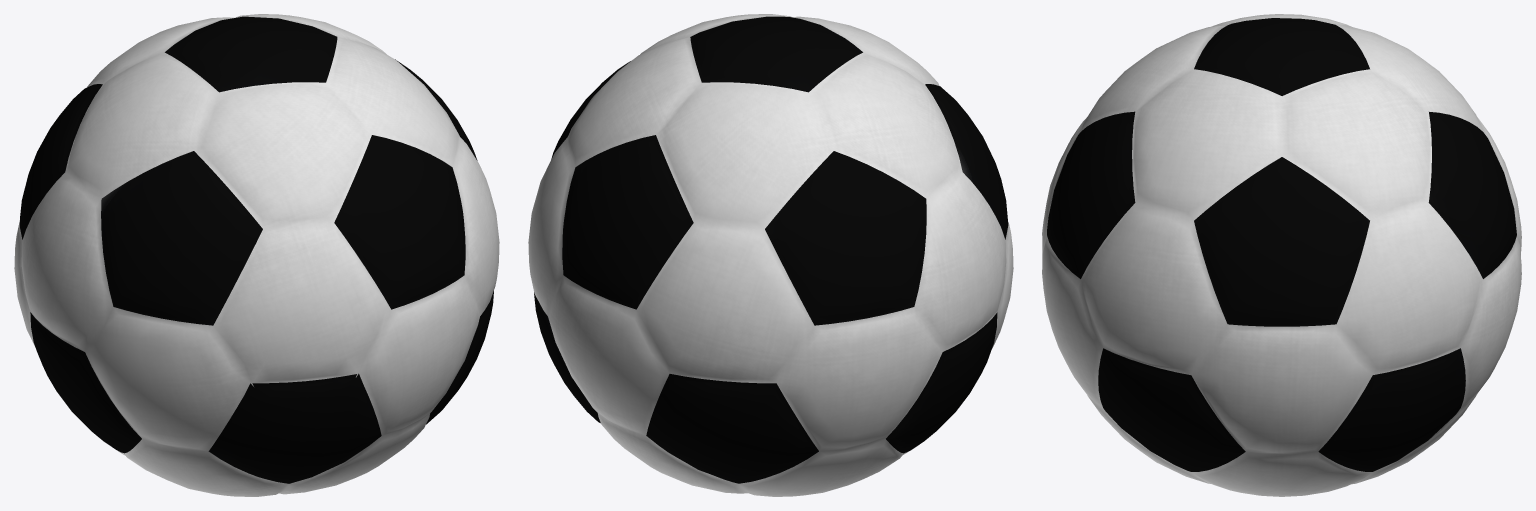
3 views of the same model, side by side, from view 1: azimuth 30°, elevation 25°; view 2: azimuth 150°, elevation 25°; view 3: azimuth 270°, elevation 25° (orthographic).
Parts seen in each view (by area): view 1: Object_3, Object_2; view 2: Object_3, Object_2; view 3: Object_3, Object_2.
Part boxes in pixels (x1,y1,x2,y2): Object_3: (14, 14, 499, 496); Object_2: (20, 16, 493, 483); Object_3: (528, 14, 1013, 496); Object_2: (534, 16, 1008, 483); Object_3: (1042, 14, 1521, 496); Object_2: (1047, 18, 1516, 471).
Size of the model in its own units: 2.1 by 2.11 by 2.09.
2 materials, 2 textured.
